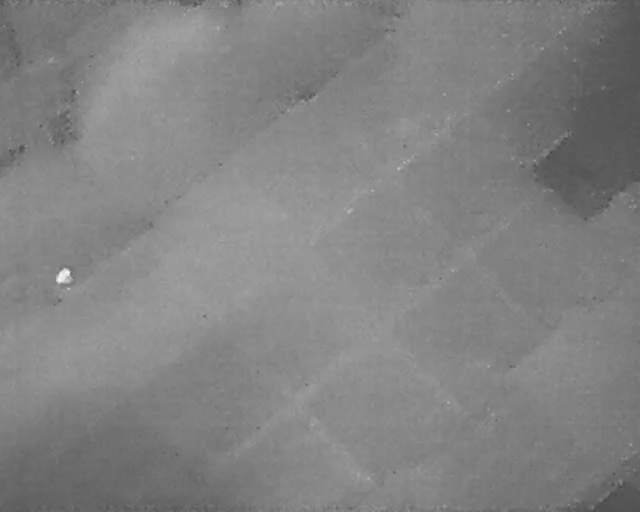Bicycle: (54, 106, 84, 148), (40, 113, 67, 150), (12, 137, 32, 158)
Person: (55, 265, 74, 285)
